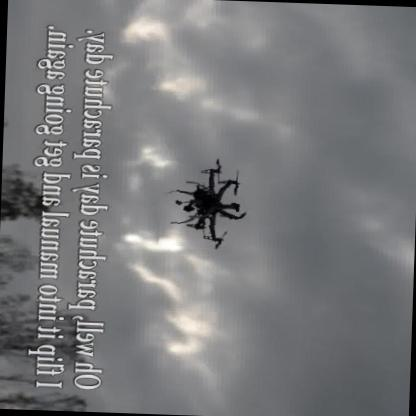drone: (159, 162, 255, 251)
